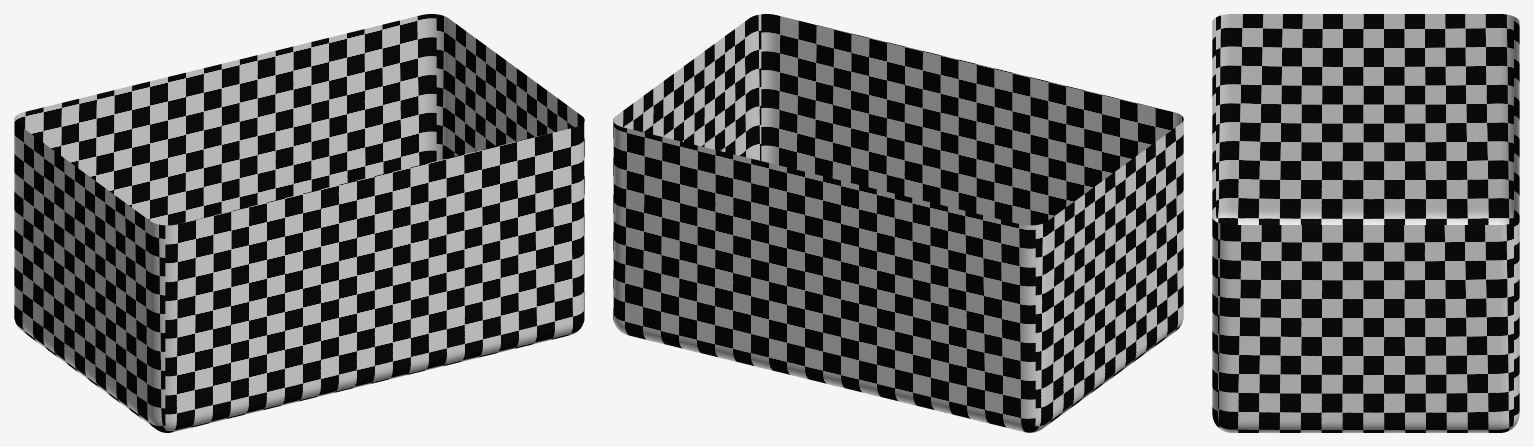
The model's file is Background.fbx.
3 renders of one model, left to right at view 1: azimuth 30°, elevation 25°; view 2: azimuth 150°, elevation 25°; view 3: azimuth 270°, elevation 25°, orthographic.
Parts seen in each view (by area): view 1: ChamferBoxWithChecker; view 2: ChamferBoxWithChecker; view 3: ChamferBoxWithChecker.
Boxes of the visible parts, x1,y1,x2,y2 form: ChamferBoxWithChecker: [14, 14, 584, 432]; ChamferBoxWithChecker: [613, 14, 1183, 432]; ChamferBoxWithChecker: [1212, 14, 1519, 432].
Bounding box in the file's own units: 3708 × 1757 × 2282.
Materials: 1 (1 with a texture image).
